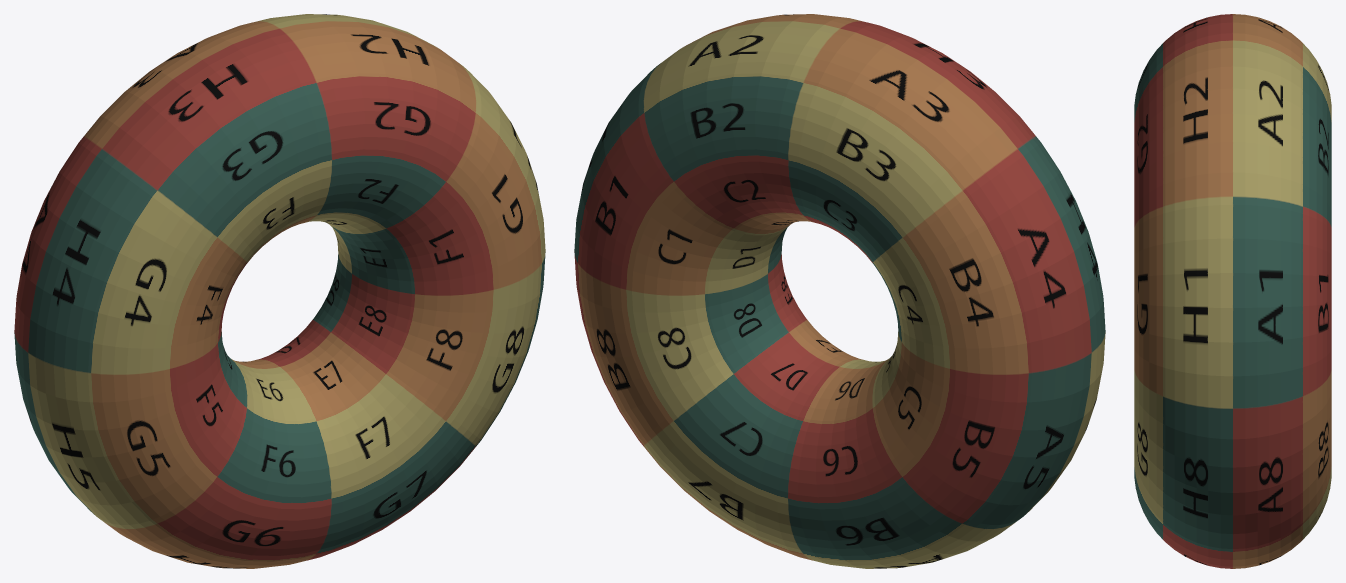
File: texture_torus_R7_r23.glb
3 views of the same model, side by side, from view 1: azimuth 30°, elevation 25°; view 2: azimuth 150°, elevation 25°; view 3: azimuth 270°, elevation 25° (orthographic). The views are drawn at different scales.
Parts seen in each view (by area): view 1: world; view 2: world; view 3: world.
Part boxes in pixels (left/top/right/bottom): world: left=14, top=14, right=545, bottom=568; world: left=574, top=14, right=1105, bottom=568; world: left=1134, top=14, right=1331, bottom=568.
Size of the model in its own units: 22.8 by 22.76 by 8.12.
1 material, 1 textured.
